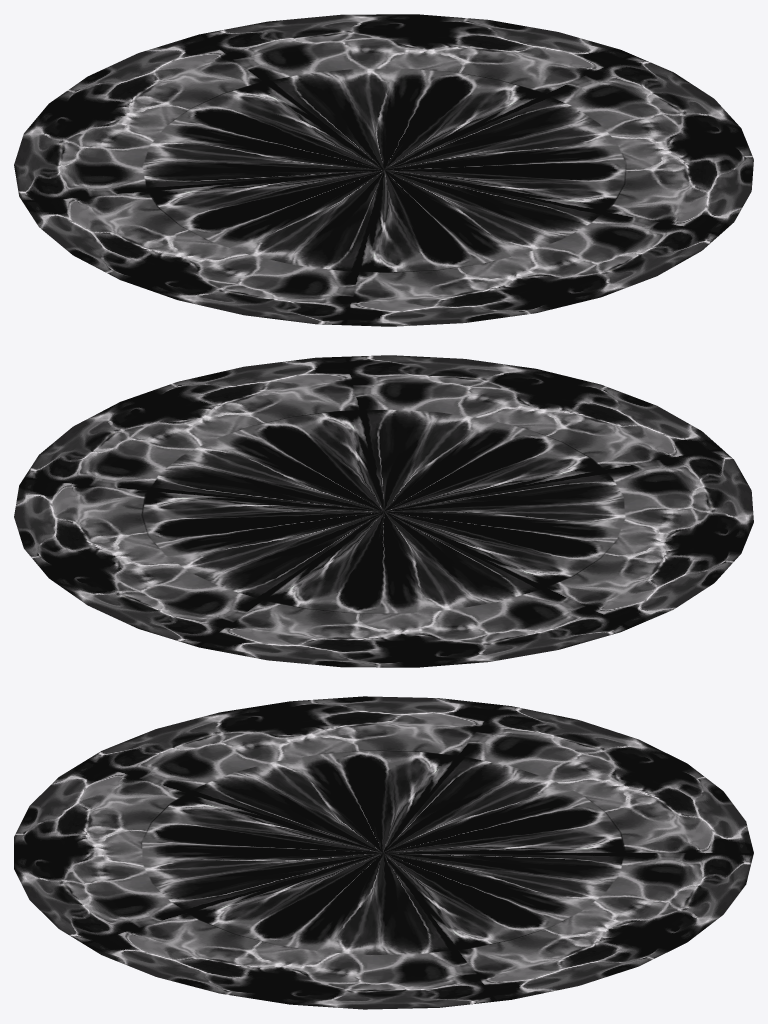
The model's file is fx_nanmojia_ring_mesh.fbx.
3 renders of one model, top to bottom at view 1: azimuth 30°, elevation 25°; view 2: azimuth 150°, elevation 25°; view 3: azimuth 270°, elevation 25°, orthographic.
Visible parts, largest first — view 1: loftedSurface1; view 2: loftedSurface1; view 3: loftedSurface1.
Boxes of the visible parts, bbox=[...] form: loftedSurface1: bbox=[14, 14, 753, 326]; loftedSurface1: bbox=[14, 355, 753, 667]; loftedSurface1: bbox=[14, 696, 753, 1009].
Bounding box in the file's own units: 48.98 × 2.47e-14 × 48.91.
